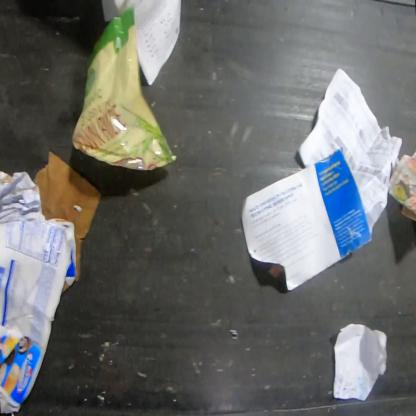cardboard: (0, 216, 76, 414), (33, 151, 102, 282)
soft_plastic: (72, 7, 180, 173)
